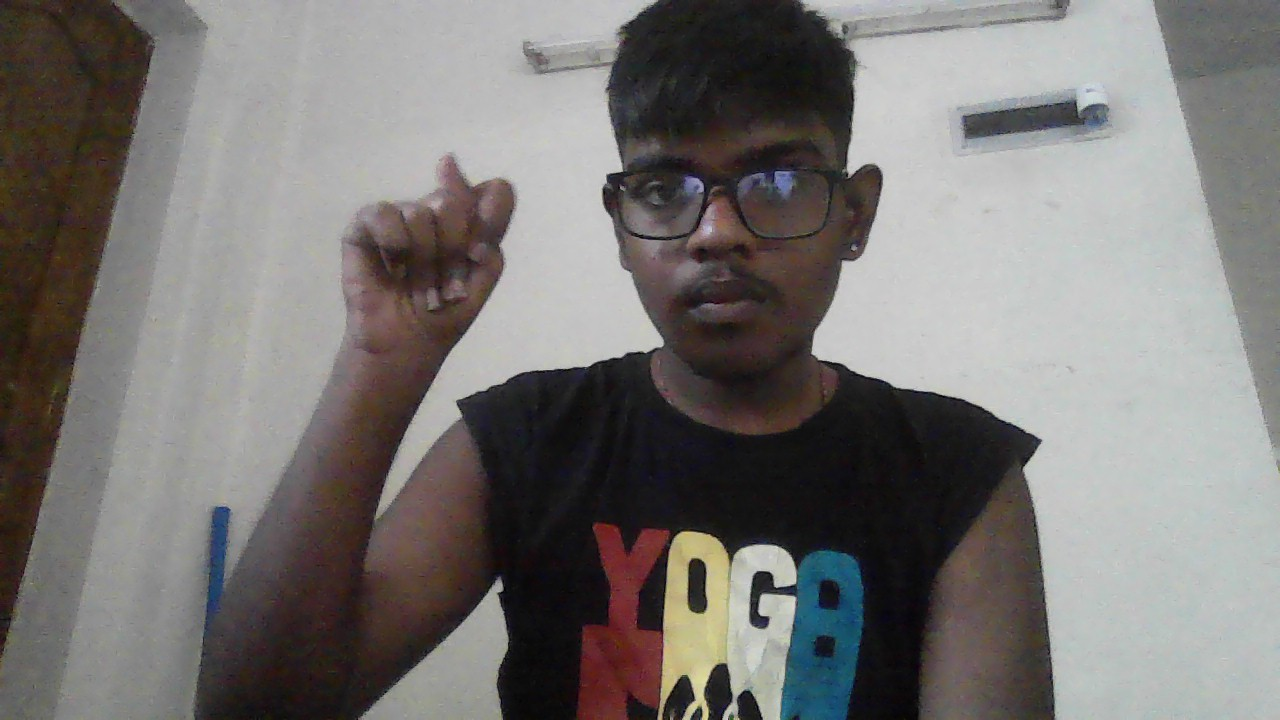T: (340, 155, 516, 341)
